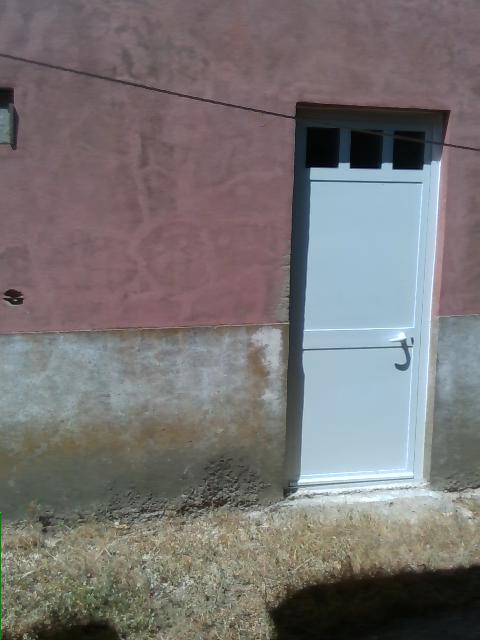door: (283, 100, 450, 498)
